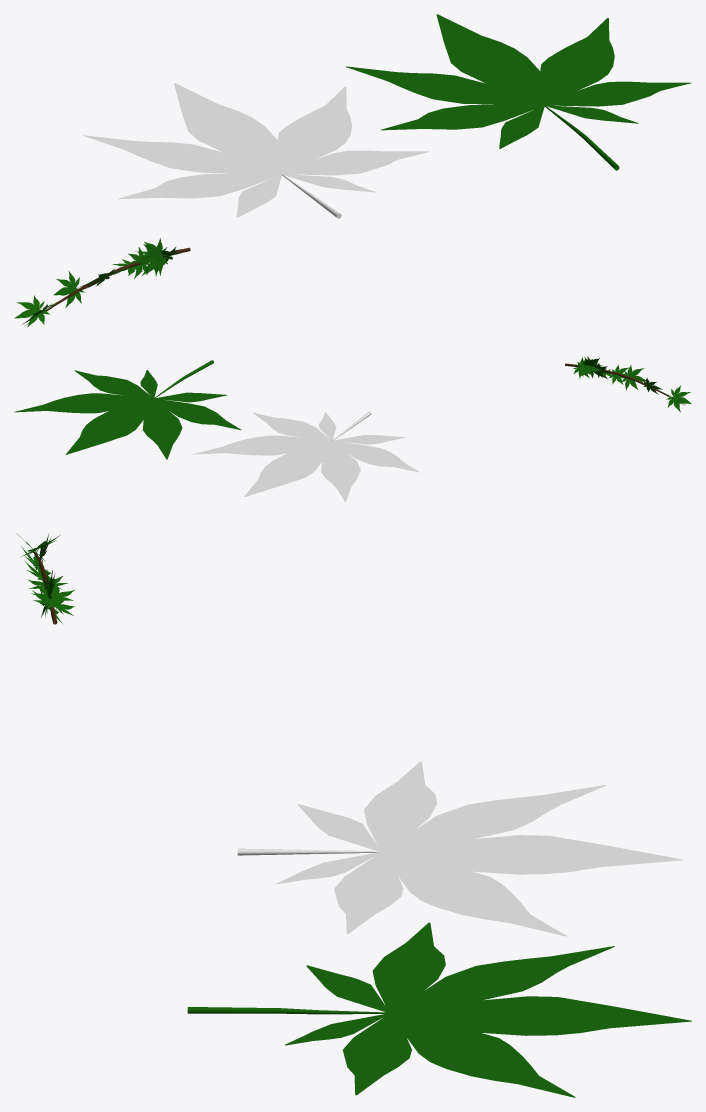
3 renders of one model, top to bottom at view 1: azimuth 30°, elevation 25°; view 2: azimuth 150°, elevation 25°; view 3: azimuth 270°, elevation 25°, orthographic. The views are drawn at different scales.
Visible parts, largest first — view 1: Cylinder.001, Plane.003; view 2: Cylinder.001 (×3), Plane.003; view 3: Cylinder.001, Plane.003.
Part boxes in pixels (x1=…): Cylinder.001: x1=346, y1=14, x2=691, y2=170; Plane.003: x1=83, y1=83, x2=428, y2=217; Cylinder.001 (×3): x1=14, y1=360, x2=691, y2=459; Plane.003: x1=192, y1=412, x2=419, y2=501; Cylinder.001: x1=187, y1=922, x2=691, y2=1097; Plane.003: x1=276, y1=761, x2=682, y2=936.
Bounding box in the file's own units: 6.12 × 0.7024 × 3.55.
